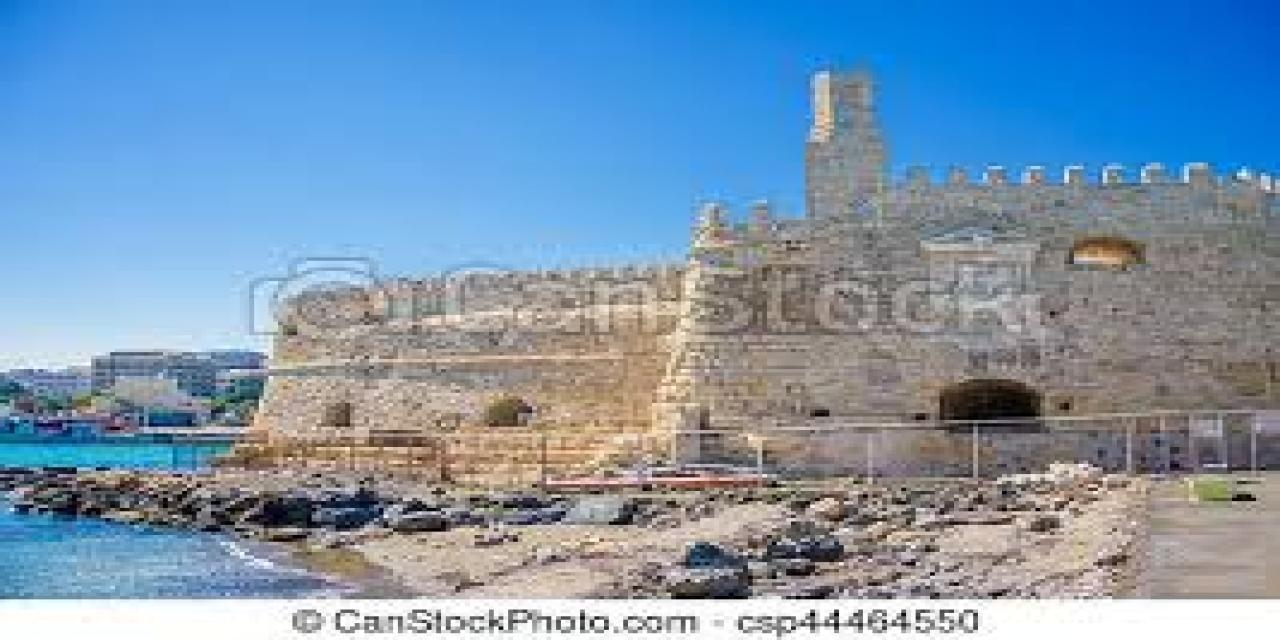Kules: (227, 70, 1280, 469)
